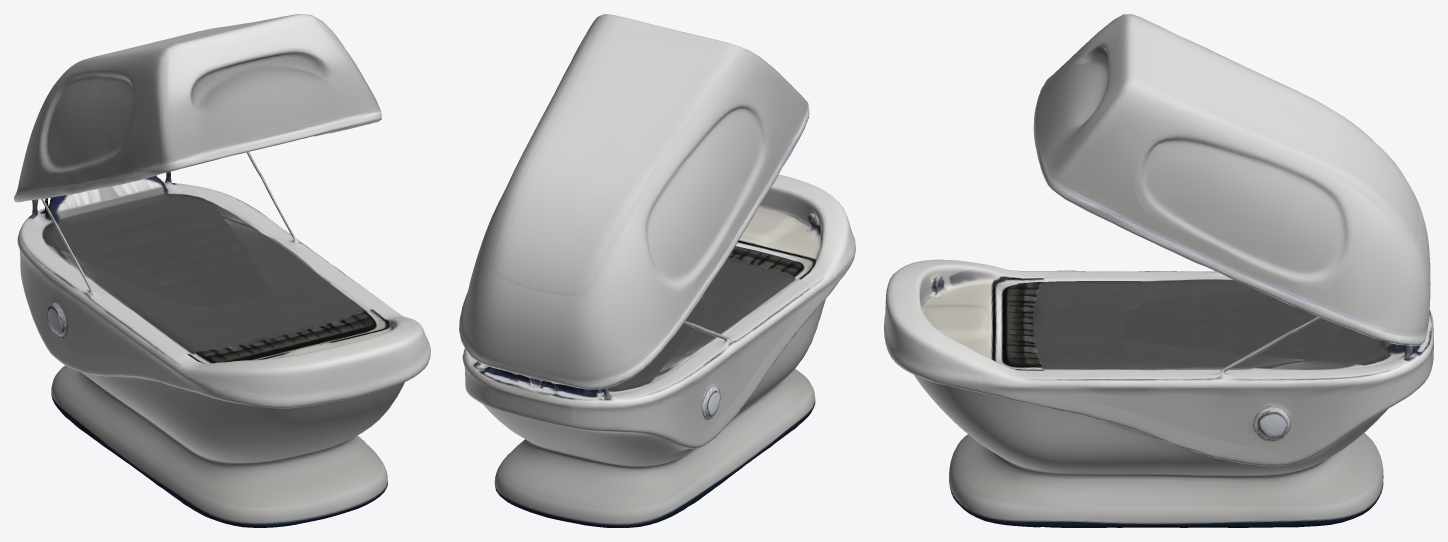
The model's file is PEMF-Negative-Ion-Pod.glb.
The picture shows the model from 3 angles, left to right: view 1: azimuth 30°, elevation 25°; view 2: azimuth 150°, elevation 25°; view 3: azimuth 270°, elevation 25°; orthographic projection. The views are drawn at different scales.
Parts seen in each view (by area): view 1: model; view 2: model; view 3: model.
Boxes of the visible parts, x1,y1,x2,y2 form: model: (14, 14, 430, 527); model: (459, 14, 855, 527); model: (884, 14, 1433, 527).
Size of the model in its own units: 0.9358 by 1.66 by 1.9.
1 material, 1 textured.
